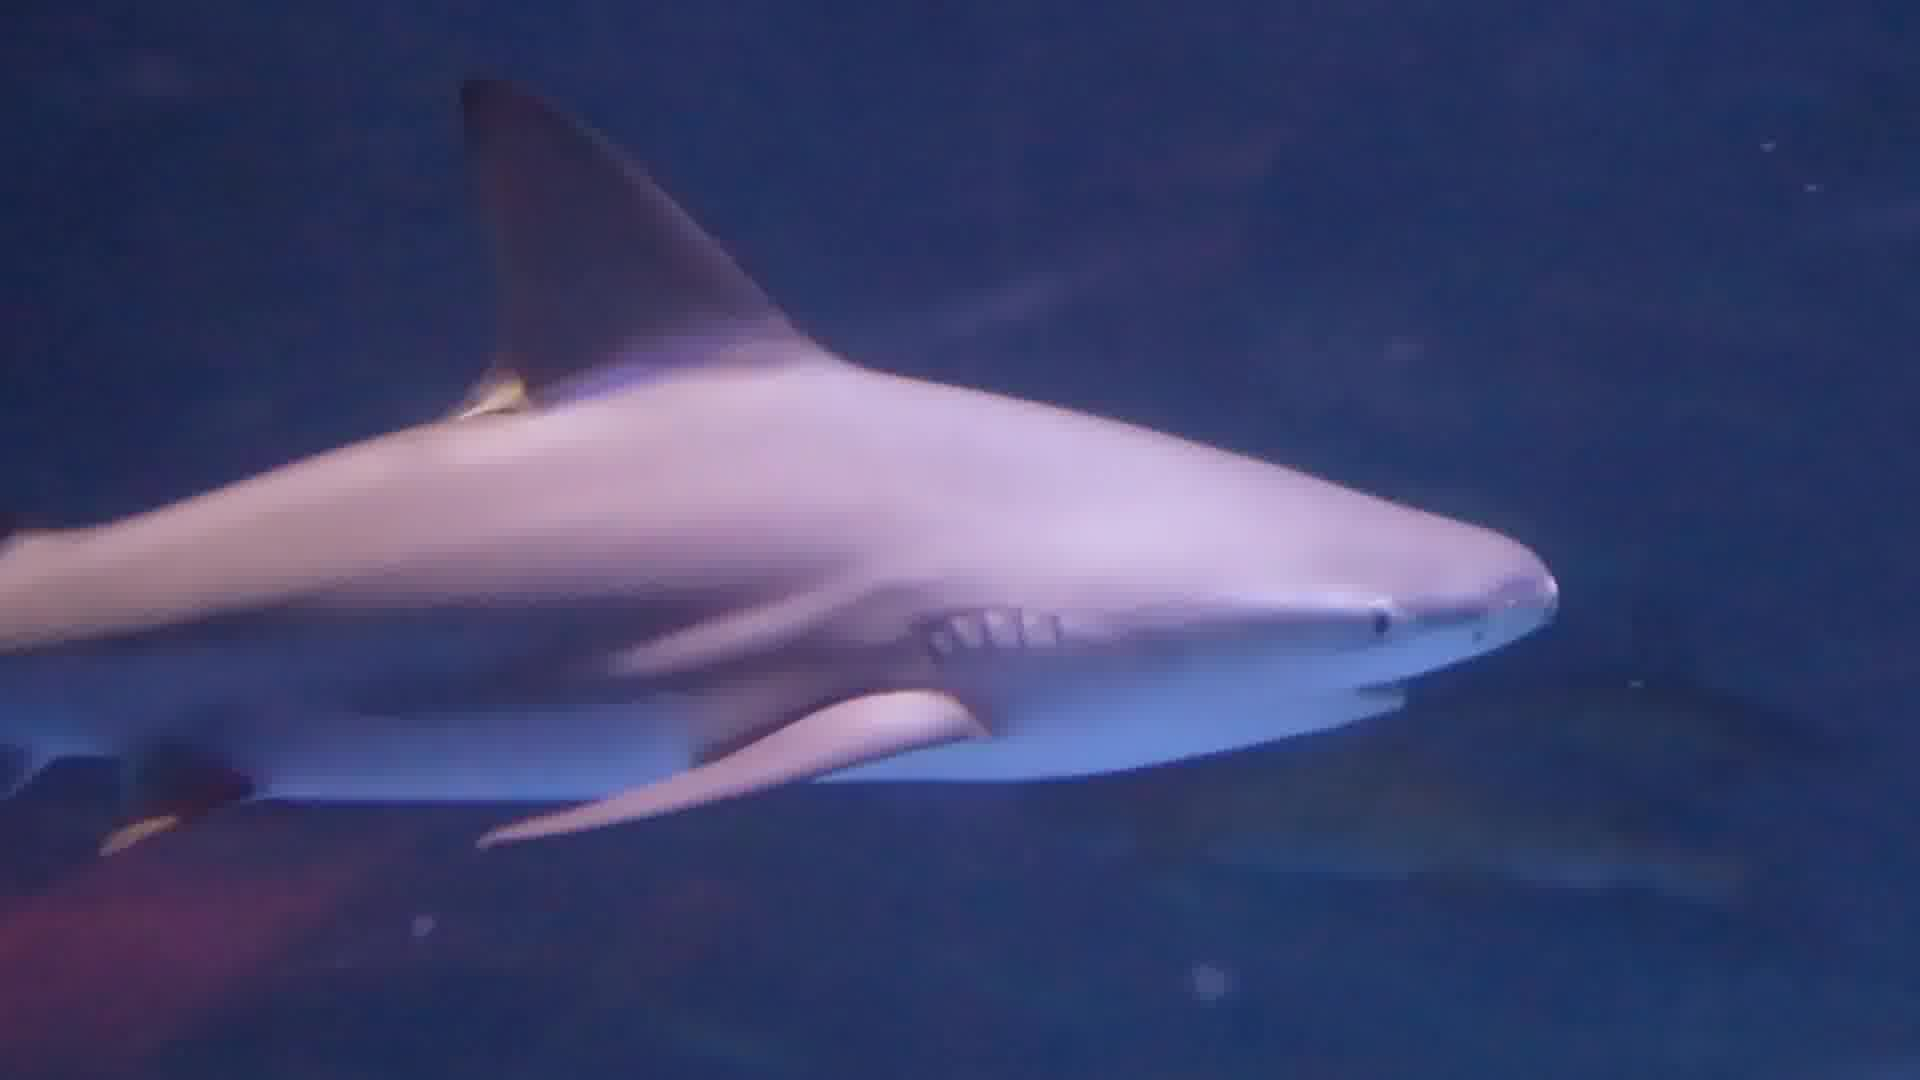Carcharhinus leucas: (3, 67, 1573, 824)
